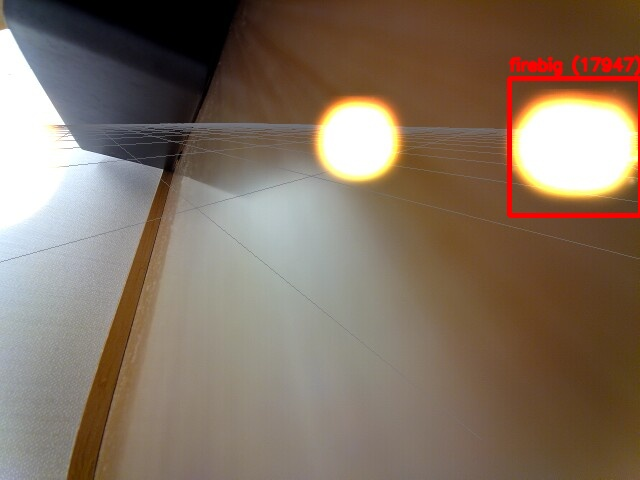firebig: (509, 78, 640, 215)
